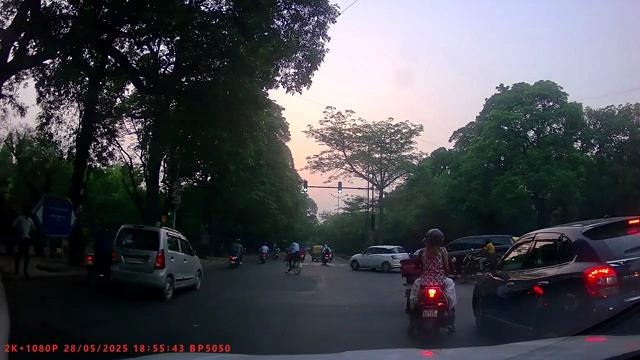passenger_with_helmet: (399, 227, 461, 345)
